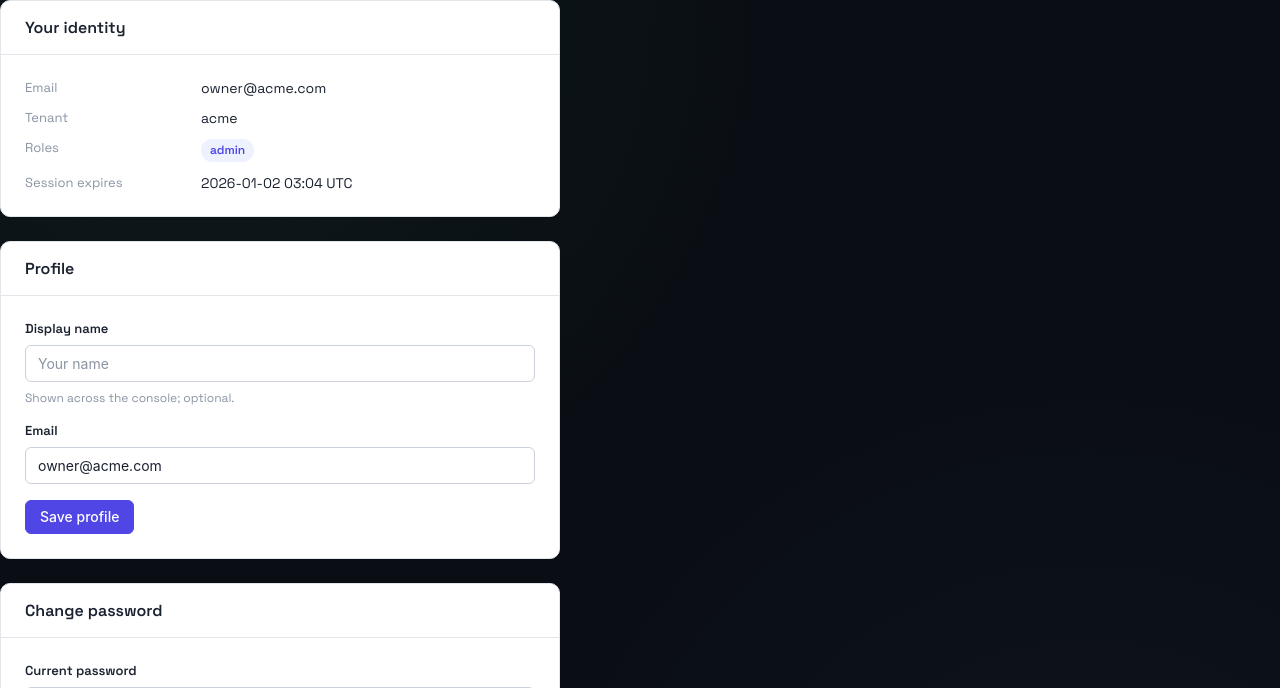
Test case: ProfileScreen profile edit (S96) › shows a network error from the profile save
This screenshot has width=1280, height=688.
Step 1. Click the button with test id "p-save" → [80, 517], box [25, 500, 134, 534]
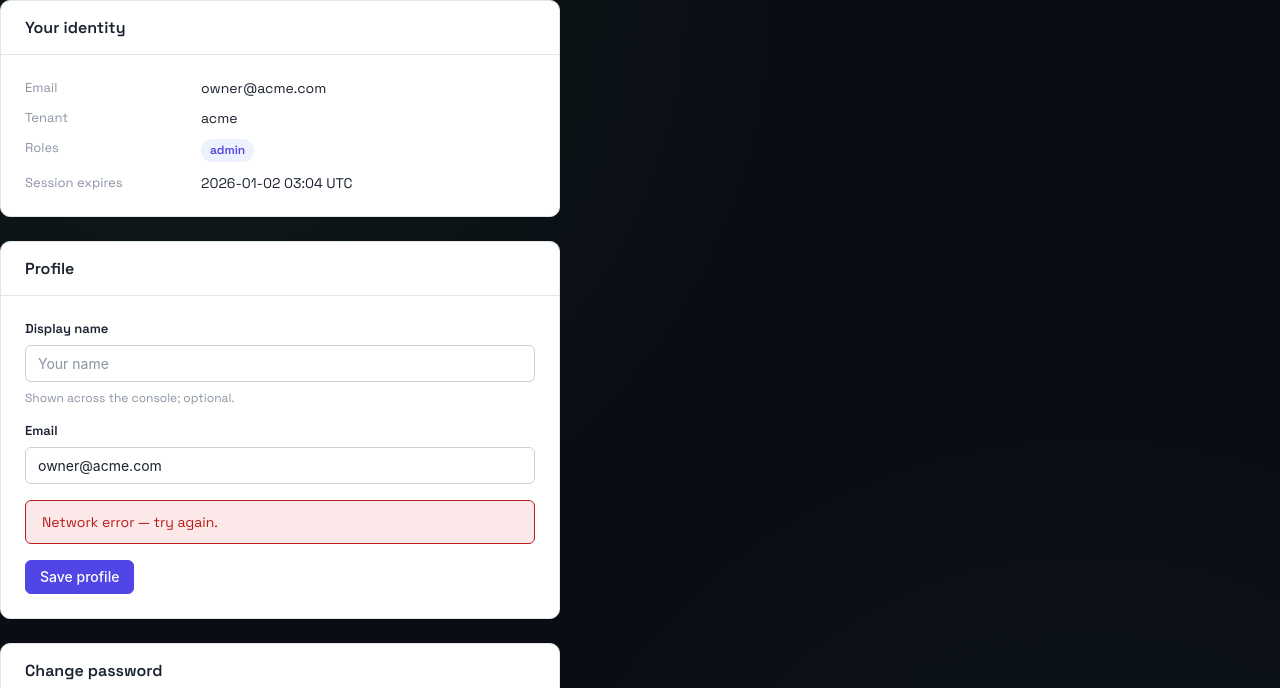
Expected: the message with test id "profile-msg" shows "Network error", [42, 513, 218, 531]
